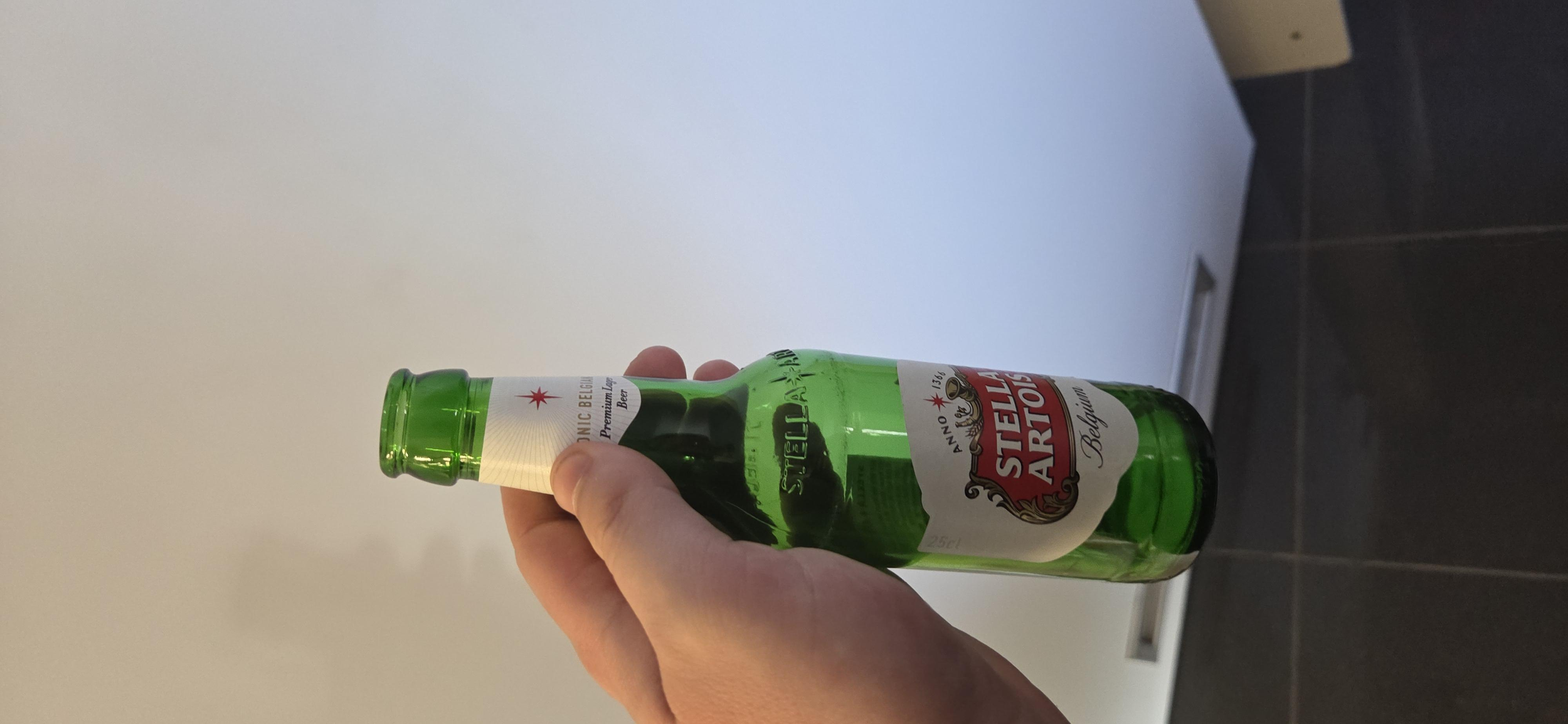Glass: (297, 169, 815, 563)
